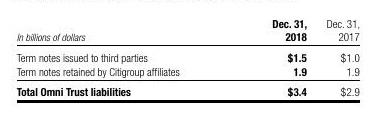table: (0, 0, 378, 120)
